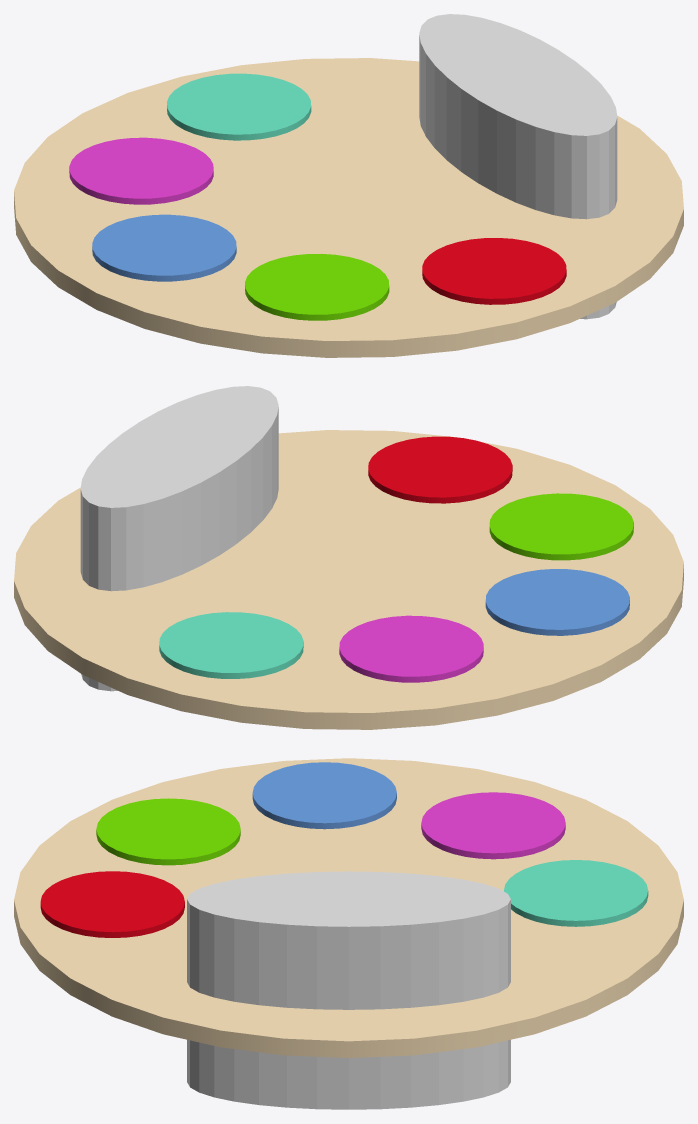
The model's file is palette-couleurs.fbx.
3 views of the same model, one above another, from view 1: azimuth 30°, elevation 25°; view 2: azimuth 150°, elevation 25°; view 3: azimuth 270°, elevation 25° (orthographic).
Visible parts, largest first — view 1: Cylinder, Cylinder.006, Cylinder.005, Cylinder.001, Cylinder.004, Cylinder.002, Cylinder.003; view 2: Cylinder, Cylinder.006, Cylinder.003, Cylinder.002, Cylinder.004, Cylinder.005, Cylinder.001; view 3: Cylinder, Cylinder.006, Cylinder.004, Cylinder.001, Cylinder.002, Cylinder.003, Cylinder.005.
Boxes of the visible parts, x1=… form: Cylinder: x1=14, y1=58, x2=683, y2=357; Cylinder.006: x1=419, y1=14, x2=617, y2=319; Cylinder.005: x1=167, y1=73, x2=311, y2=140; Cylinder.001: x1=92, y1=214, x2=236, y2=281; Cylinder.004: x1=69, y1=137, x2=213, y2=204; Cylinder.002: x1=245, y1=253, x2=389, y2=320; Cylinder.003: x1=422, y1=238, x2=566, y2=304; Cylinder: x1=14, y1=430, x2=683, y2=729; Cylinder.006: x1=80, y1=386, x2=278, y2=691; Cylinder.003: x1=368, y1=436, x2=512, y2=503; Cylinder.002: x1=489, y1=493, x2=633, y2=560; Cylinder.004: x1=339, y1=615, x2=483, y2=682; Cylinder.005: x1=159, y1=612, x2=303, y2=678; Cylinder.001: x1=485, y1=569, x2=629, y2=635; Cylinder: x1=14, y1=758, x2=683, y2=1057; Cylinder.006: x1=187, y1=871, x2=510, y2=1109; Cylinder.004: x1=421, y1=792, x2=565, y2=859; Cylinder.001: x1=252, y1=762, x2=396, y2=829; Cylinder.002: x1=96, y1=798, x2=240, y2=865; Cylinder.003: x1=40, y1=871, x2=184, y2=937; Cylinder.005: x1=504, y1=860, x2=648, y2=926.
Bounding box in the file's own units: 200 × 60.26 × 200.
